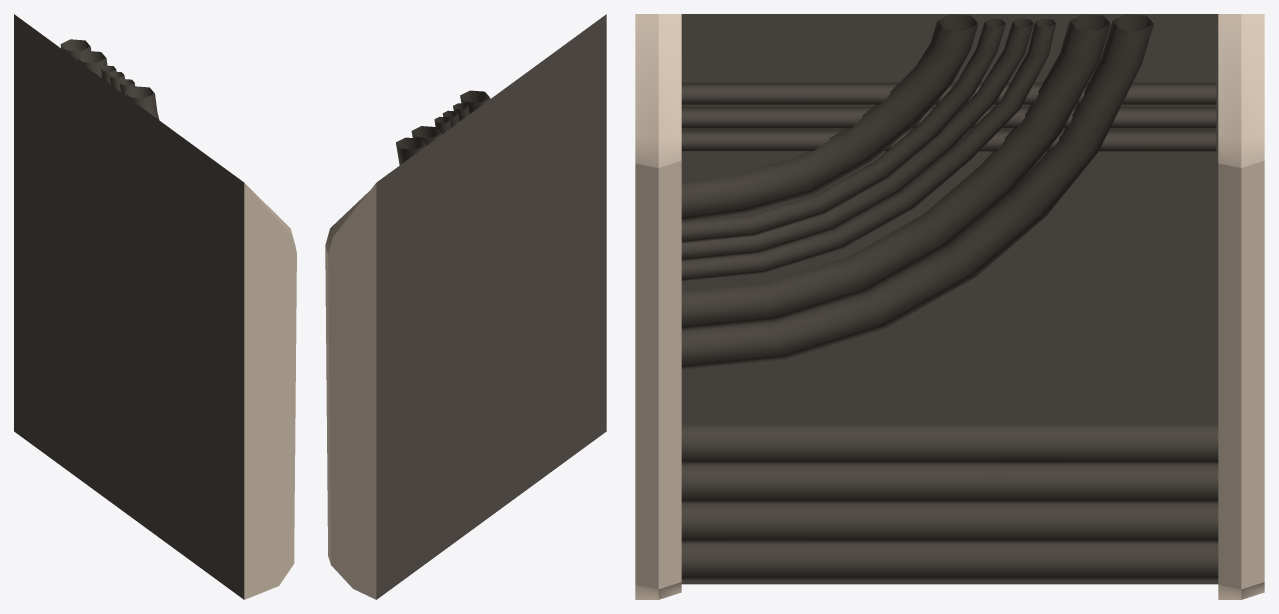
Rendered from Module_Ss_wall_1X_D1.FBX.
3 views of the same model, side by side, from view 1: azimuth 30°, elevation 25°; view 2: azimuth 150°, elevation 25°; view 3: azimuth 270°, elevation 25° (orthographic). The views are drawn at different scales.
Visible parts, largest first — view 1: Module_Ss_wall_1X_D1; view 2: Module_Ss_wall_1X_D1; view 3: Module_Ss_wall_1X_D1.
Boxes of the visible parts, bbox=[...] form: Module_Ss_wall_1X_D1: bbox=[14, 14, 296, 599]; Module_Ss_wall_1X_D1: bbox=[325, 14, 606, 599]; Module_Ss_wall_1X_D1: bbox=[635, 14, 1264, 599].
Bounding box in the file's own units: 5.89 × 39.41 × 39.37.
